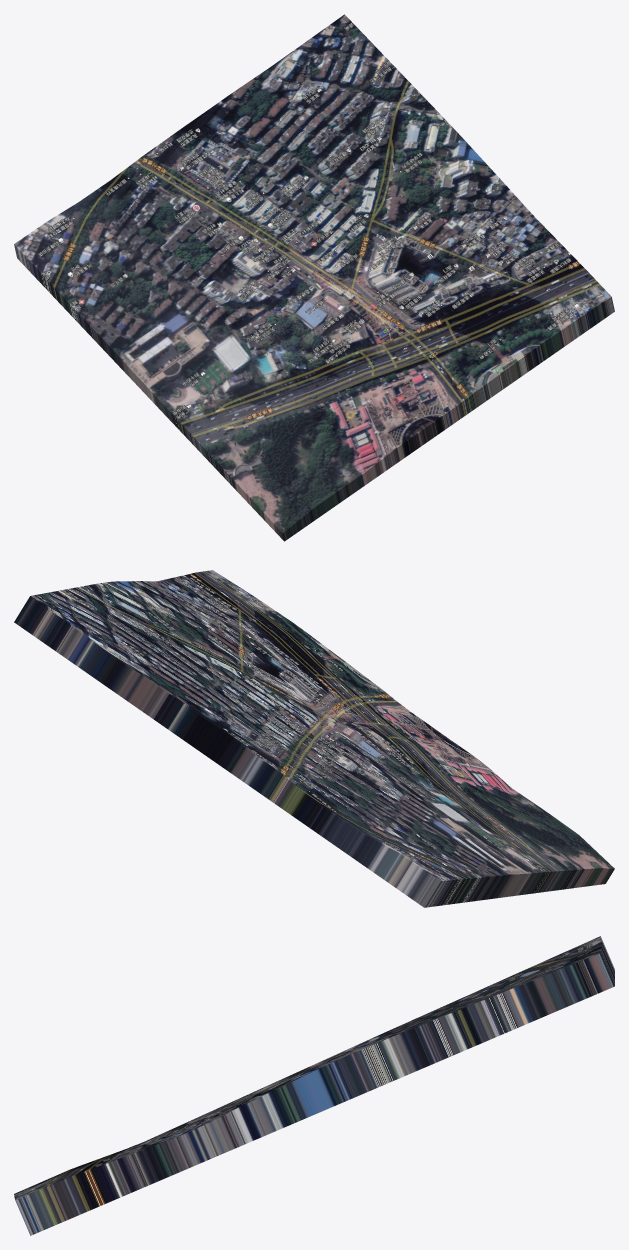
3 views of the same model, one above another, from view 1: azimuth 30°, elevation 25°; view 2: azimuth 150°, elevation 25°; view 3: azimuth 270°, elevation 25° (orthographic). The views are drawn at different scales.
Parts seen in each view (by area): view 1: 0_10_29; view 2: 0_10_29; view 3: 0_10_29.
Boxes of the visible parts, x1,y1,x2,y2 form: 0_10_29: (14, 14, 614, 541); 0_10_29: (14, 570, 614, 907); 0_10_29: (14, 936, 614, 1235).
Size of the model in its own units: 605 by 457 by 557.
1 material, 1 textured.
